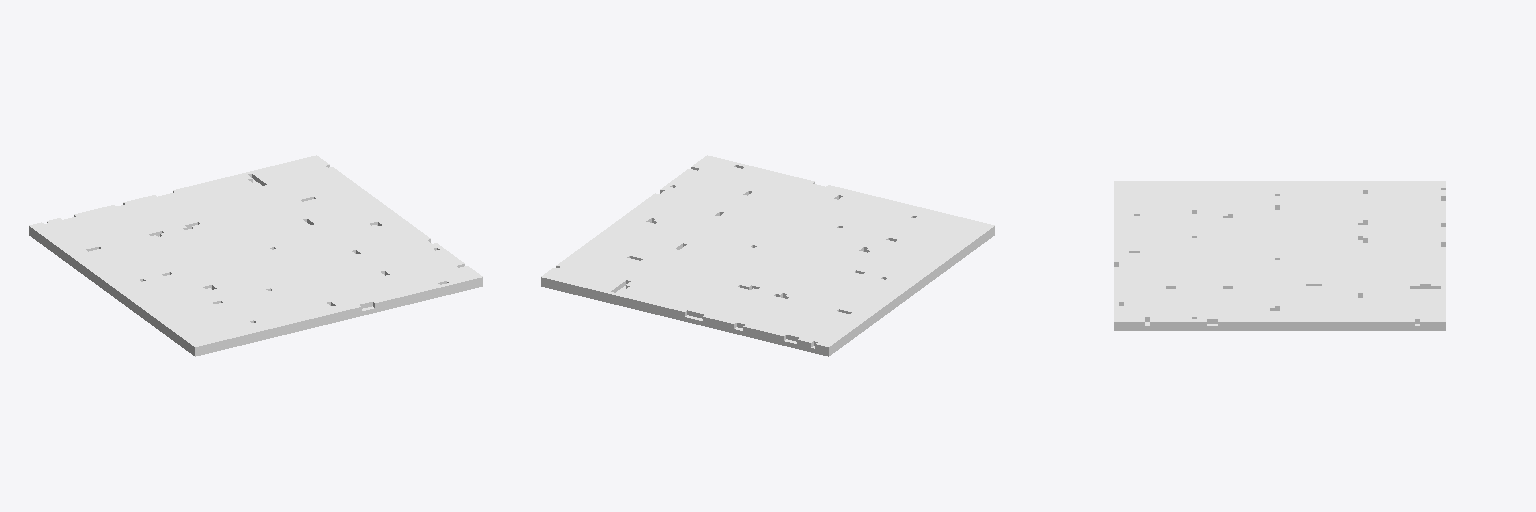
Rendered from Tutorialmap_V2_unfinished-15.obj.
3 views of the same model, side by side, from view 1: azimuth 30°, elevation 25°; view 2: azimuth 150°, elevation 25°; view 3: azimuth 270°, elevation 25° (orthographic).
Visible parts, largest first — view 1: object 1; view 2: object 1; view 3: object 1.
Part boxes in pixels (bbox=[...]): object 1: bbox=[29, 155, 482, 356]; object 1: bbox=[541, 155, 994, 356]; object 1: bbox=[1114, 181, 1445, 330].
Bounding box in the file's own units: 6.4 × 0.2 × 6.4.